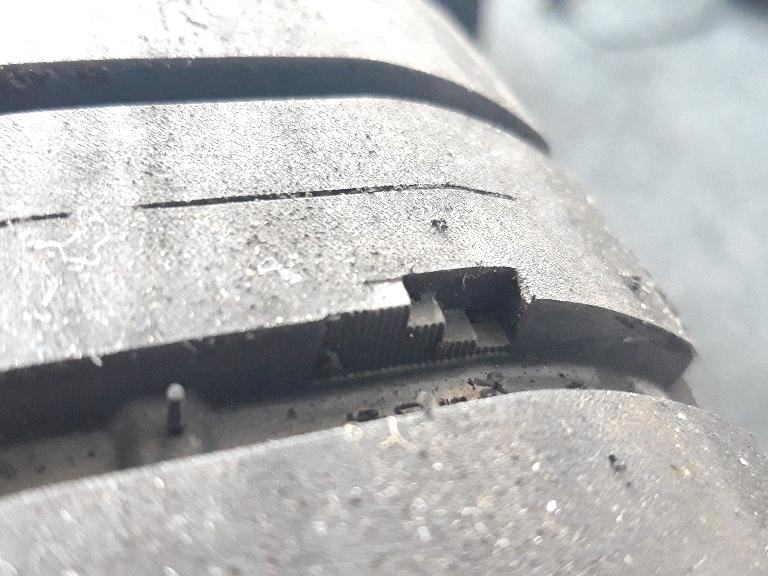temoin:75: (349, 252, 549, 384)
